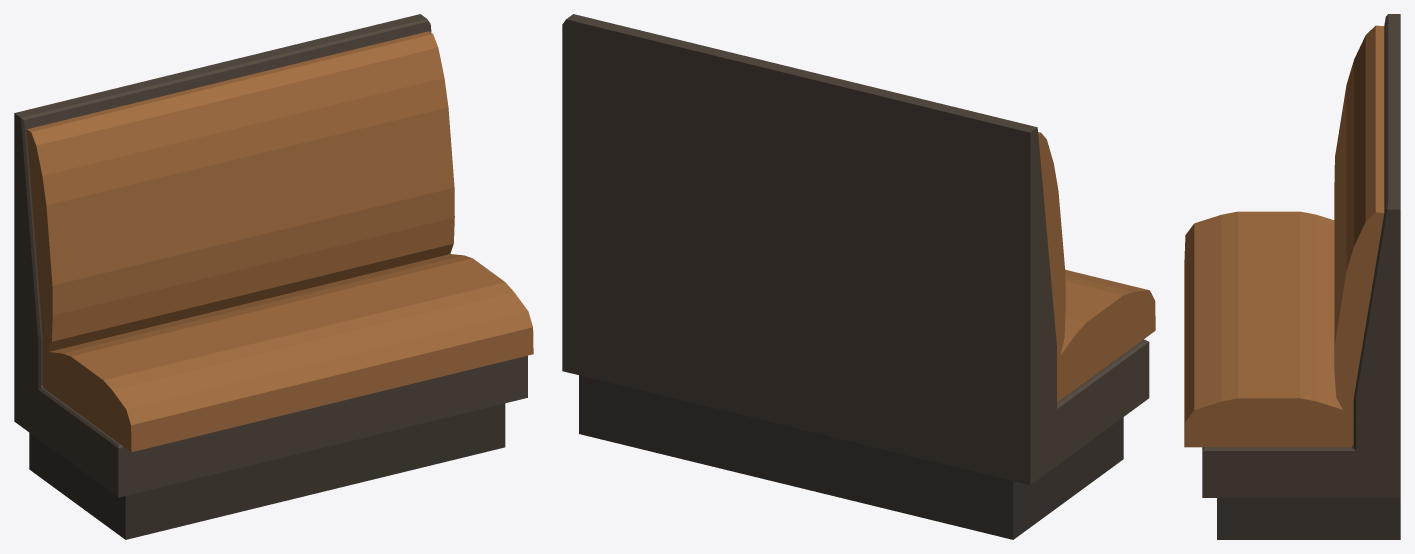
Rendered from SM_Props_Interior_Shop_Restaurant_Booth_Seat_02_01.fbx.
3 views of the same model, side by side, from view 1: azimuth 30°, elevation 25°; view 2: azimuth 150°, elevation 25°; view 3: azimuth 270°, elevation 25° (orthographic). The views are drawn at different scales.
Visible parts, largest first — view 1: SM_Props_Interior_Shop_Restaurant_Booth_Seat_02_01; view 2: SM_Props_Interior_Shop_Restaurant_Booth_Seat_02_01; view 3: SM_Props_Interior_Shop_Restaurant_Booth_Seat_02_01.
Boxes of the visible parts, x1,y1,x2,y2 form: SM_Props_Interior_Shop_Restaurant_Booth_Seat_02_01: (14, 14, 533, 539); SM_Props_Interior_Shop_Restaurant_Booth_Seat_02_01: (562, 14, 1155, 539); SM_Props_Interior_Shop_Restaurant_Booth_Seat_02_01: (1184, 14, 1400, 539).
Size of the model in its own units: 125 by 105 by 60.
